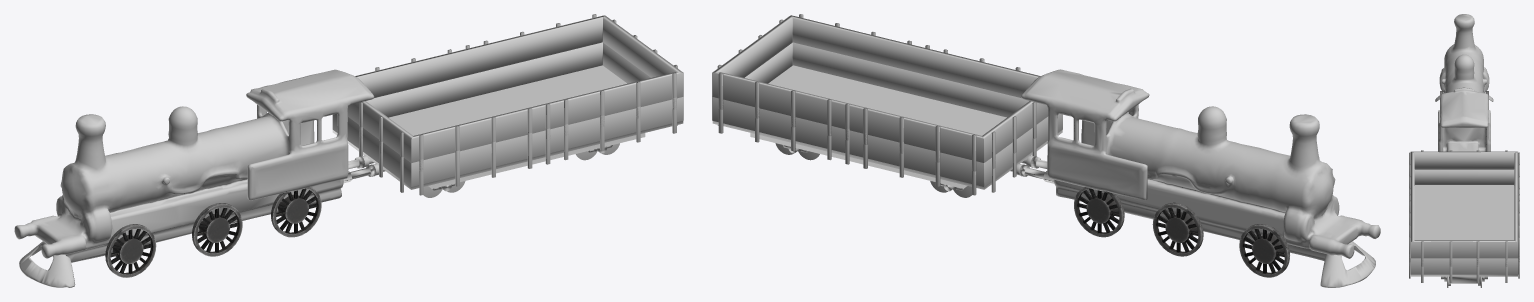
Rendered from pełny CiuchCiuch.fbx.
The picture shows the model from 3 angles, left to right: view 1: azimuth 30°, elevation 25°; view 2: azimuth 150°, elevation 25°; view 3: azimuth 270°, elevation 25°; orthographic projection. The views are drawn at different scales.
Parts seen in each view (by area): view 1: merge.001, Cylinder.003_Cylinder.005, Cube.012_Cube.000, Cube.012_Cube.023, Cube.001_Cube.000, Cube.001_Cube.021, Cylinder_Cylinder.002, Cylinder_Cylinder.000, Cube.003_Cube.000, Cylinder_Cylinder.001, Cube.013_Cube.024, Cube.013_Cube.000 (+2 smaller); view 2: merge.001, Cylinder.003_Cylinder.005, Cube.001_Cube.000, Cube.001_Cube.021, Cube.012_Cube.000, Cube.012_Cube.023, Cylinder_Cylinder.000, Cylinder_Cylinder.002, Cube.003_Cube.000, Cube.013_Cube.000, Cylinder_Cylinder.001, Cube.013_Cube.024 (+2 smaller); view 3: Cylinder.003_Cylinder.005, merge.001, Cube.003_Cube.000, Cube.013_Cube.000, Cube.003_Cube.022, Cube.013_Cube.024, Cube.012_Cube.000, Cube.001_Cube.000.
Boxes of the visible parts, x1=… form: merge.001: x1=14, y1=69, x2=374, y2=262; Cylinder.003_Cylinder.005: x1=332, y1=65, x2=683, y2=197; Cube.012_Cube.000: x1=411, y1=72, x2=683, y2=171; Cube.012_Cube.023: x1=411, y1=97, x2=683, y2=195; Cube.001_Cube.000: x1=355, y1=14, x2=604, y2=97; Cube.001_Cube.021: x1=366, y1=42, x2=602, y2=117; Cylinder_Cylinder.002: x1=105, y1=224, x2=156, y2=277; Cylinder_Cylinder.000: x1=192, y1=203, x2=242, y2=256; Cube.003_Cube.000: x1=603, y1=15, x2=683, y2=96; Cylinder_Cylinder.001: x1=271, y1=186, x2=321, y2=237; Cube.013_Cube.024: x1=332, y1=113, x2=411, y2=192; Cube.013_Cube.000: x1=347, y1=101, x2=413, y2=162; merge.001: x1=1021, y1=69, x2=1380, y2=260; Cylinder.003_Cylinder.005: x1=712, y1=65, x2=1062, y2=197; Cube.001_Cube.000: x1=712, y1=72, x2=983, y2=171; Cube.001_Cube.021: x1=712, y1=97, x2=983, y2=195; Cube.012_Cube.000: x1=791, y1=14, x2=1040, y2=98; Cube.012_Cube.023: x1=792, y1=42, x2=1029, y2=117; Cylinder_Cylinder.000: x1=1152, y1=202, x2=1203, y2=256; Cylinder_Cylinder.002: x1=1239, y1=224, x2=1289, y2=277; Cube.003_Cube.000: x1=712, y1=15, x2=792, y2=96; Cube.013_Cube.000: x1=982, y1=101, x2=1048, y2=168; Cylinder_Cylinder.001: x1=1074, y1=187, x2=1124, y2=237; Cube.013_Cube.024: x1=984, y1=113, x2=1062, y2=192; Cylinder.003_Cylinder.005: x1=1411, y1=185, x2=1517, y2=287; merge.001: x1=1438, y1=14, x2=1490, y2=151; Cube.003_Cube.000: x1=1411, y1=240, x2=1517, y2=266; Cube.013_Cube.000: x1=1411, y1=150, x2=1517, y2=169; Cube.003_Cube.022: x1=1411, y1=258, x2=1517, y2=282; Cube.013_Cube.024: x1=1414, y1=169, x2=1514, y2=185; Cube.012_Cube.000: x1=1409, y1=152, x2=1414, y2=262; Cube.001_Cube.000: x1=1514, y1=152, x2=1519, y2=262.
Size of the model in its own units: 616 by 143 by 140.
